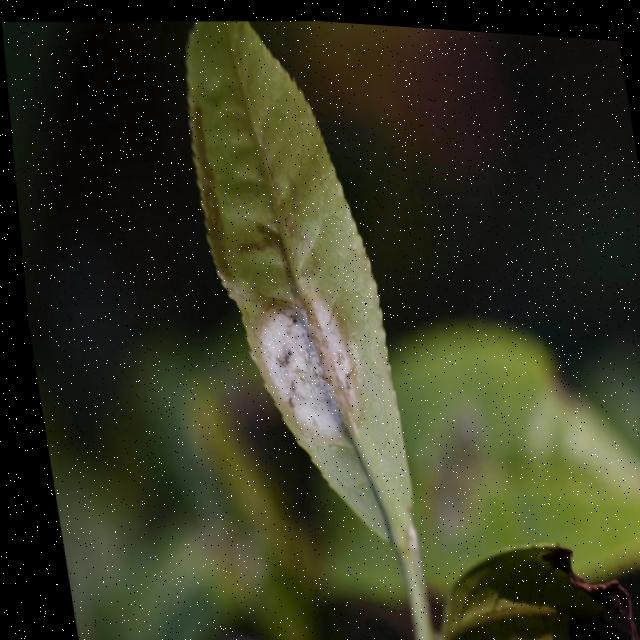Tea cake: (252, 288, 363, 434)
